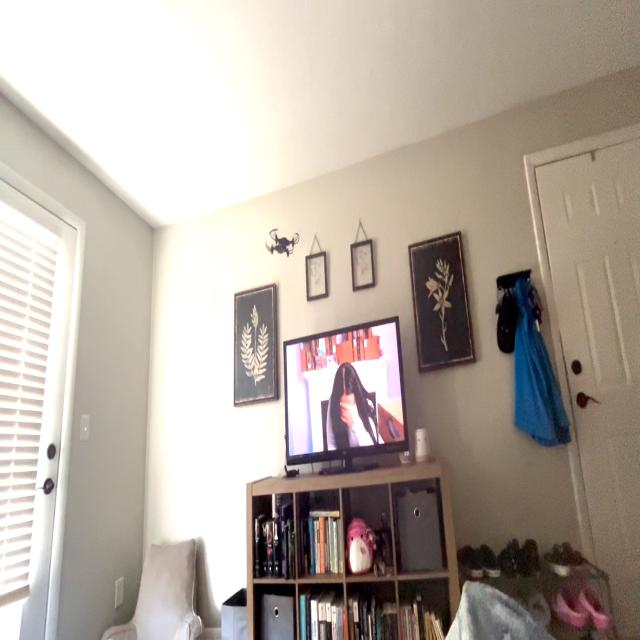drone: (261, 209, 307, 265)
